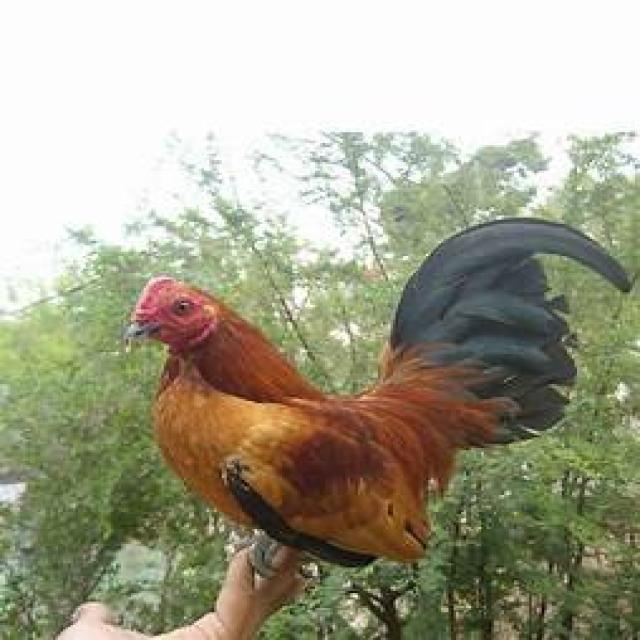hen: (130, 219, 632, 564)
